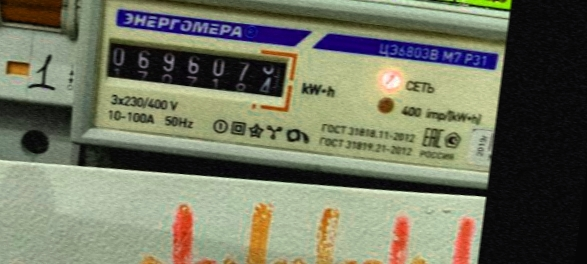0: (209, 54, 227, 78), (110, 45, 127, 67)
4: (258, 74, 273, 96)
6: (135, 47, 152, 69), (185, 53, 201, 75)
7: (234, 60, 252, 82)
9: (160, 50, 175, 72)
screen: (90, 26, 302, 110)
